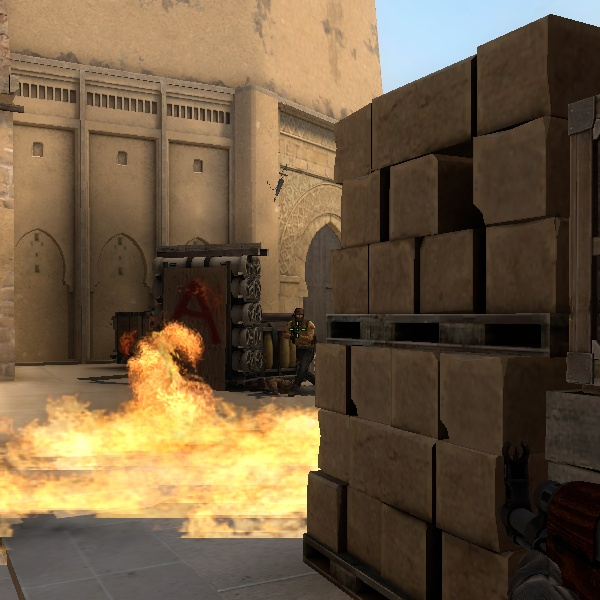t_body: (279, 303, 321, 391)
